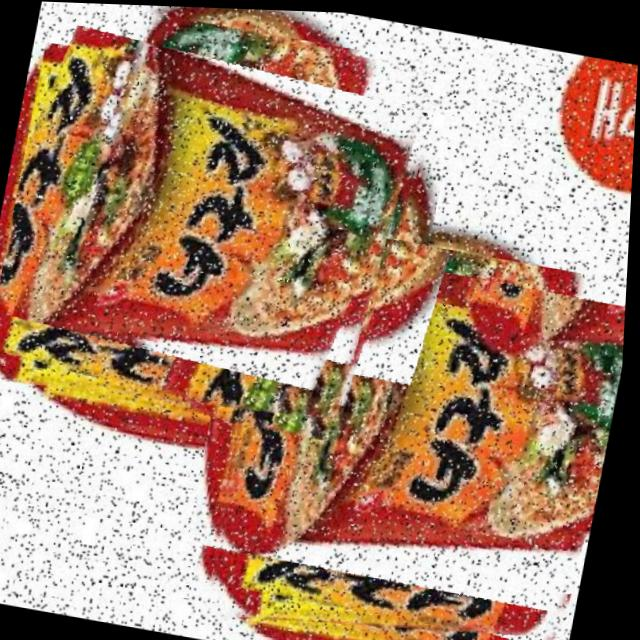Miscellaneous: (0, 0, 440, 447), (200, 214, 632, 640)
